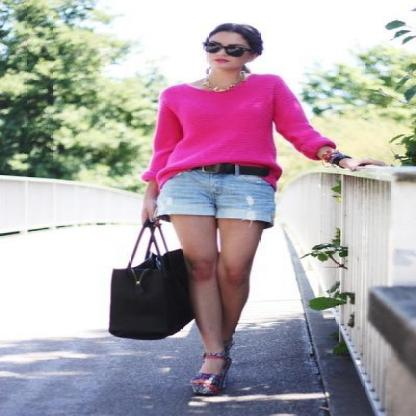bag: (109, 249, 198, 339)
shirt: (143, 74, 335, 188)
shoe: (186, 341, 234, 397)
shorts: (157, 168, 276, 223)
sunglass: (204, 32, 237, 56)
